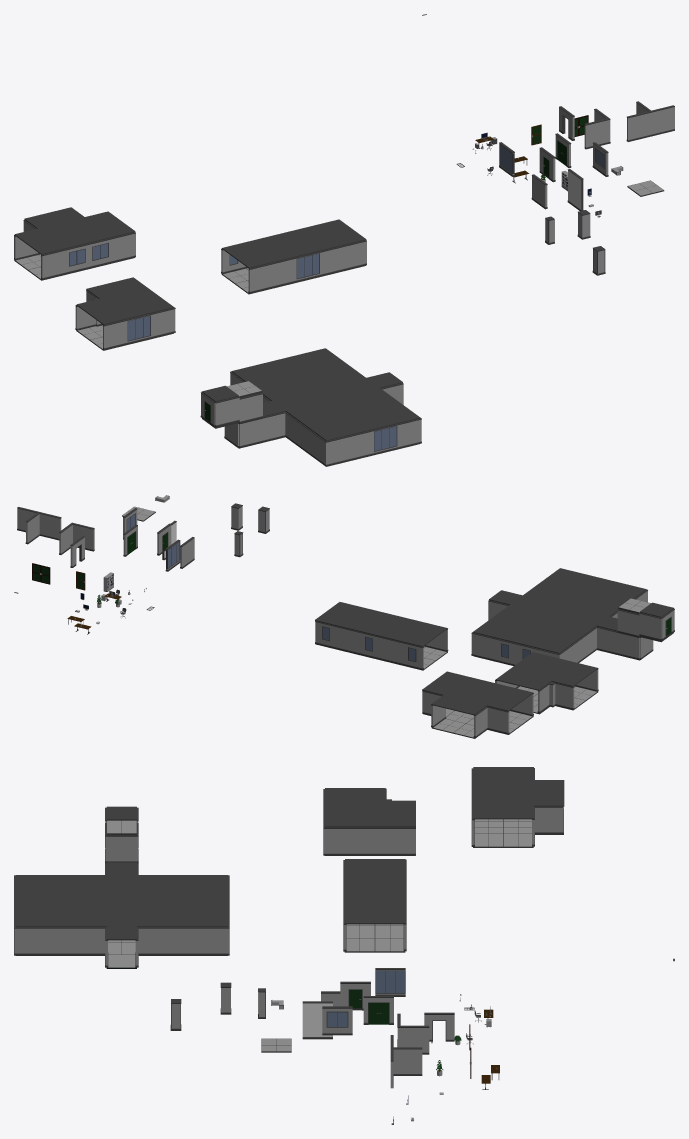
The picture shows the model from 3 angles, top to bottom: view 1: azimuth 30°, elevation 25°; view 2: azimuth 150°, elevation 25°; view 3: azimuth 270°, elevation 25°; orthographic projection. The views are drawn at different scales.
Visible parts, largest first — view 1: Neo_Wall_Joint_snaps001__1_, Neo_Wall_Corner_snaps001_6, Neo_Wall_Corner_snaps001_8, Neo_Wall_Corner_snaps001; view 2: Neo_Wall_Joint_snaps001__1_, Neo_Wall_Corner_snaps001_1, Neo_Wall_Corner_snaps001_7, Neo_Wall_Corner_snaps001, Neo_Wall_Corner_snaps001_4, Neo_Wall_Corner_snaps001_2, Neo_Wall_snaps001_17, Neo_Wall_snaps001_19, Neo_WallWindow_01_snaps001_2, Neo_Wall_snaps001_6, Neo_Wall_snaps001_15, Neo_WallWindow_01_snaps001_4 (+6 smaller); view 3: Neo_Wall_Joint_snaps001__1_, Neo_Wall_Corner_snaps001_4, Neo_Wall_Corner_snaps001_11, Neo_Wall_Corner_snaps001_10, Neo_Wall_Corner_snaps001_3, Neo_Wall_Corner_snaps001_9, Neo_Wall_Corner_snaps001_2, Neo_WallWindow_02_snaps001_2, Neo_Wall_4m_snaps001, Neo_WallDoubleDoors_01_snaps001, Neo_Wall_snaps001_9, Neo_Wall_snaps001_13 (+7 smaller).
Boxes of the visible parts, x1,y1,x2,y2 form: Neo_Wall_Joint_snaps001__1_: (626,101,674,141); Neo_Wall_Corner_snaps001_6: (311,431,350,466); Neo_Wall_Corner_snaps001_8: (263,411,298,445); Neo_Wall_Corner_snaps001: (584,108,610,149); Neo_Wall_Joint_snaps001__1_: (17,507,61,544); Neo_Wall_Corner_snaps001_1: (473,706,509,737); Neo_Wall_Corner_snaps001_7: (584,626,617,658); Neo_Wall_Corner_snaps001: (59,522,94,554); Neo_Wall_Corner_snaps001_4: (471,623,494,660); Neo_Wall_Corner_snaps001_2: (422,691,446,727); Neo_Wall_snaps001_17: (617,609,639,637); Neo_Wall_snaps001_19: (639,612,661,640); Neo_WallWindow_01_snaps001_2: (401,642,423,669); Neo_Wall_snaps001_6: (336,626,358,654); Neo_Wall_snaps001_15: (617,632,639,659); Neo_WallWindow_01_snaps001_4: (494,638,515,665); Neo_Wall_Joint_snaps001__1_: (390,1035,422,1088); Neo_Wall_Corner_snaps001_4: (197,914,229,955); Neo_Wall_Corner_snaps001_11: (323,814,355,855); Neo_Wall_Corner_snaps001_10: (135,927,167,967); Neo_Wall_Corner_snaps001_3: (76,927,108,967); Neo_Wall_Corner_snaps001_9: (14,914,45,955); Neo_Wall_Corner_snaps001_2: (532,806,563,846); Neo_WallWindow_02_snaps001_2: (322,1006,352,1035); Neo_Wall_4m_snaps001: (302,1001,332,1039); Neo_WallDoubleDoors_01_snaps001: (363,996,393,1024); Neo_Wall_snaps001_9: (167,927,197,955); Neo_Wall_snaps001_13: (46,927,76,955).
Size of the model in its own units: 7699 by 1737 by 6532.
